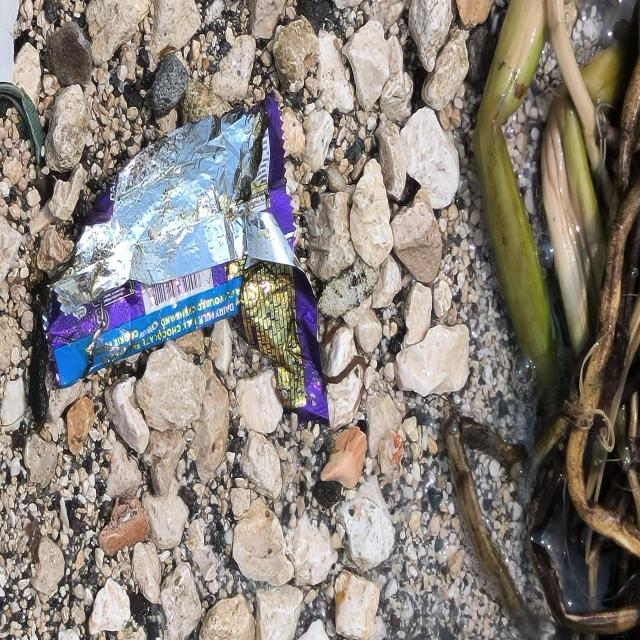plastic_waste: (42, 88, 331, 421)
